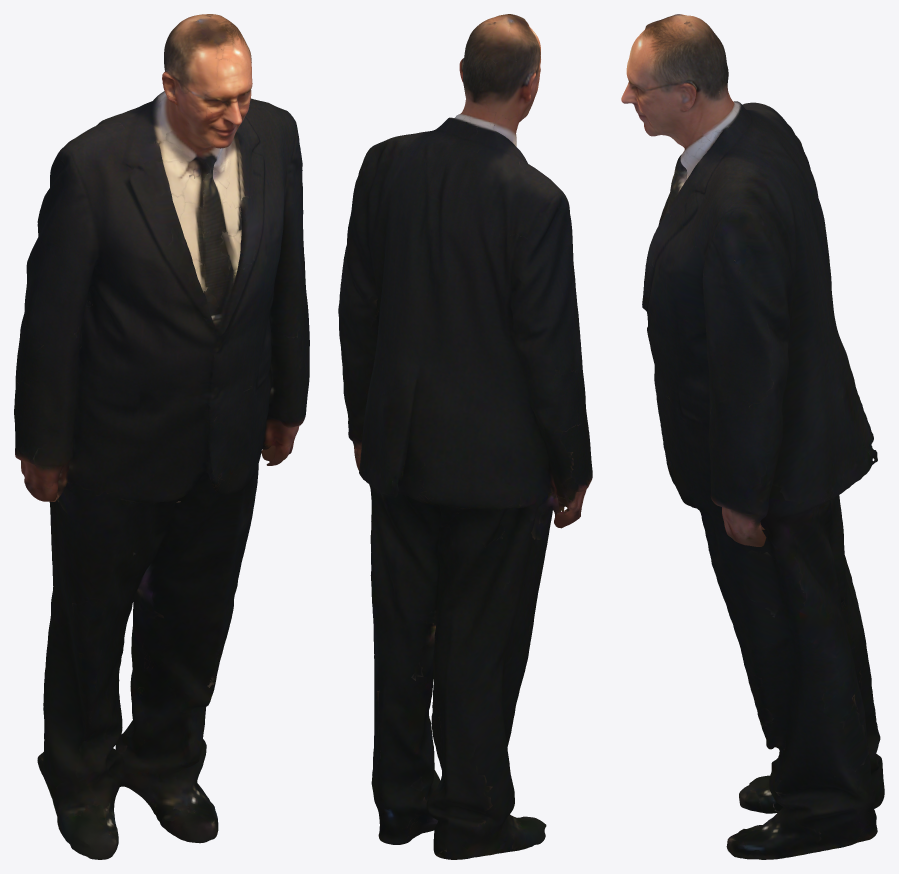
File: person.glb
3 renders of one model, left to right at view 1: azimuth 30°, elevation 25°; view 2: azimuth 150°, elevation 25°; view 3: azimuth 270°, elevation 25°, orthographic. The views are drawn at different scales.
Parts seen in each view (by area): view 1: Object_4, Object_3, Object_2; view 2: Object_2, Object_3, Object_4; view 3: Object_3, Object_4, Object_2, Object_5.
Boxes of the visible parts, bbox=[...] form: Object_4: bbox=[34, 14, 309, 859]; Object_3: bbox=[37, 14, 309, 843]; Object_2: bbox=[14, 154, 225, 856]; Object_2: bbox=[378, 156, 592, 859]; Object_3: bbox=[344, 17, 574, 844]; Object_4: bbox=[338, 14, 580, 836]; Object_3: bbox=[623, 14, 877, 859]; Object_4: bbox=[621, 15, 877, 810]; Object_2: bbox=[743, 145, 884, 859]; Object_5: bbox=[754, 455, 877, 680].
Bounding box in the file's own units: 0.6475 × 1.91 × 0.553.
1 material, 1 textured.
